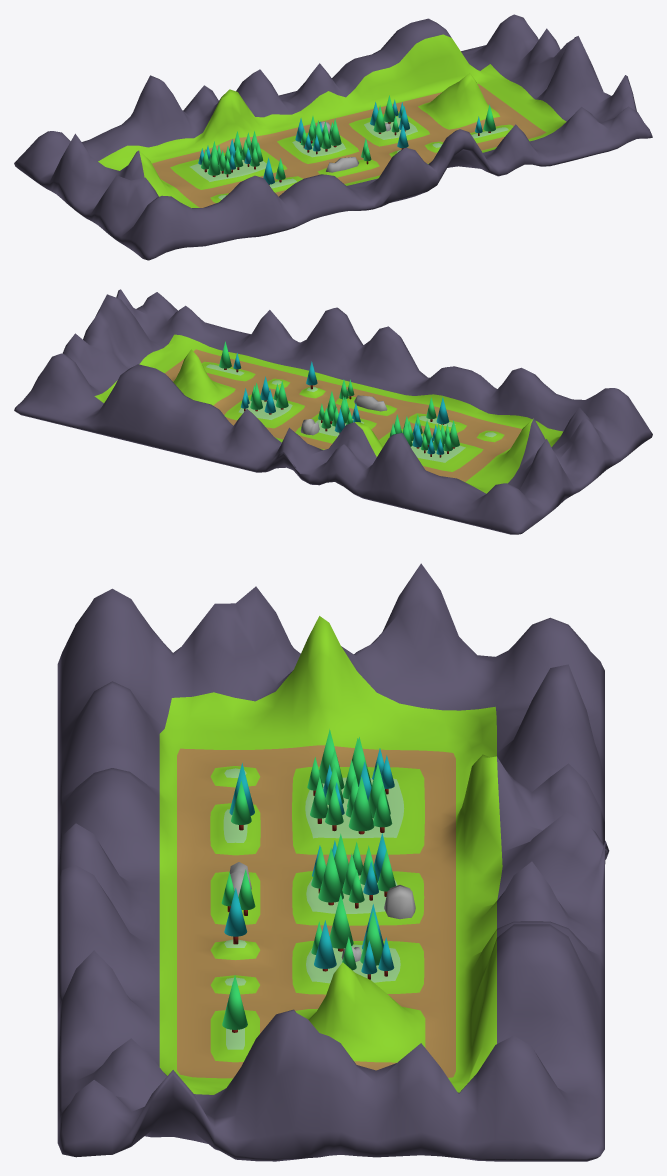
File: map.fbx
3 renders of one model, top to bottom at view 1: azimuth 30°, elevation 25°; view 2: azimuth 150°, elevation 25°; view 3: azimuth 270°, elevation 25°, orthographic. The views are drawn at different scales.
Visible parts, largest first — view 1: Cube; view 2: Cube, Cube_001; view 3: Cube, Cube_002.
Part boxes in pixels (box(x1,y1,x2,y2)): Cube: box(14, 14, 652, 260); Cube: box(14, 289, 652, 534); Cube_001: box(354, 395, 387, 411); Cube: box(57, 563, 609, 1161); Cube_002: box(384, 885, 415, 919).
Bounding box in the file's own units: 31.32 × 4.2 × 14.69.
